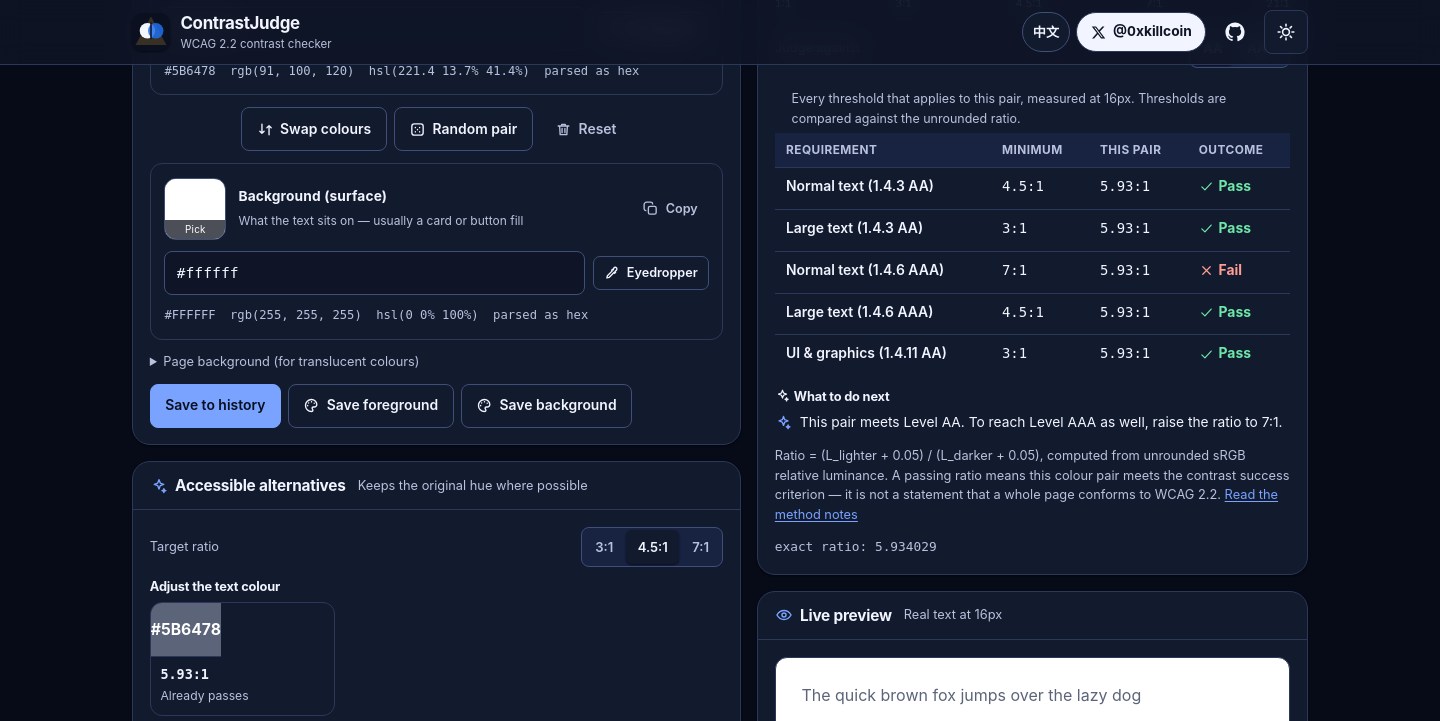
Test: palette, export and batch tabs › adds a palette colour and exports matching CSS
The width and height of the screenshot is (1440, 721).
(page scrolled)
Click the button "Save foreground" at (371, 406), box [288,384,454,428]
(page scrolled)
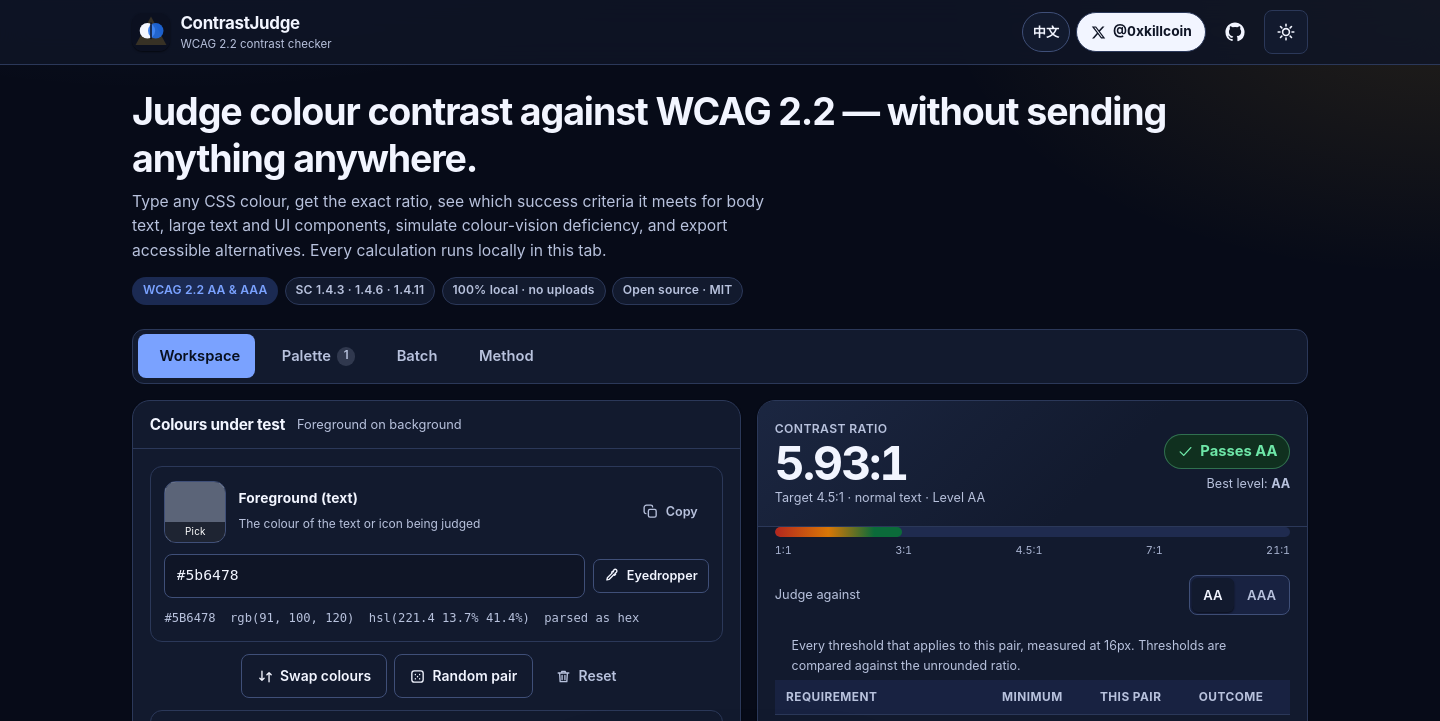
Click the tab "Palette 1" at (315, 356), box [260,334,370,378]
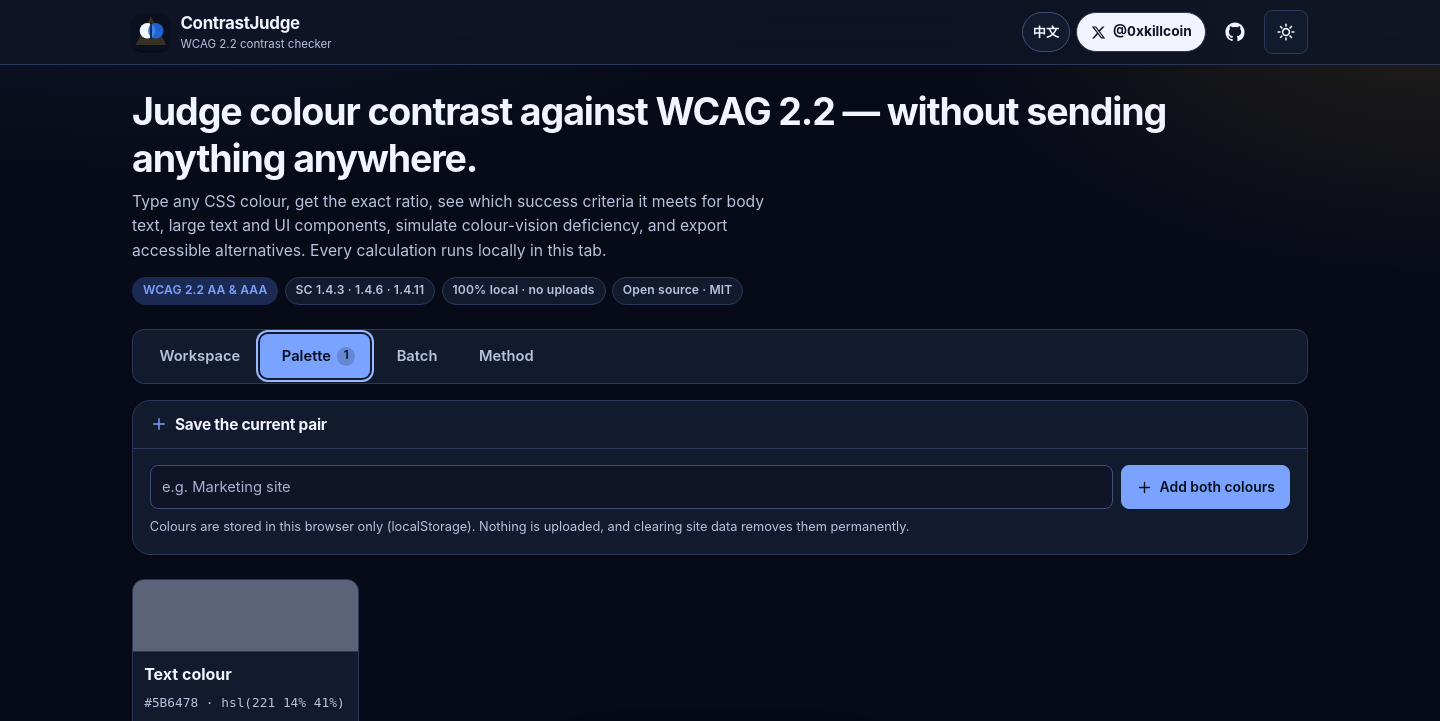
expect the text "ContrastJudge" is shown: met, box [180,13,300,33]
expect the button with aria-label "Rename Text colour" reads "Text colour": met, box [144,662,347,686]
